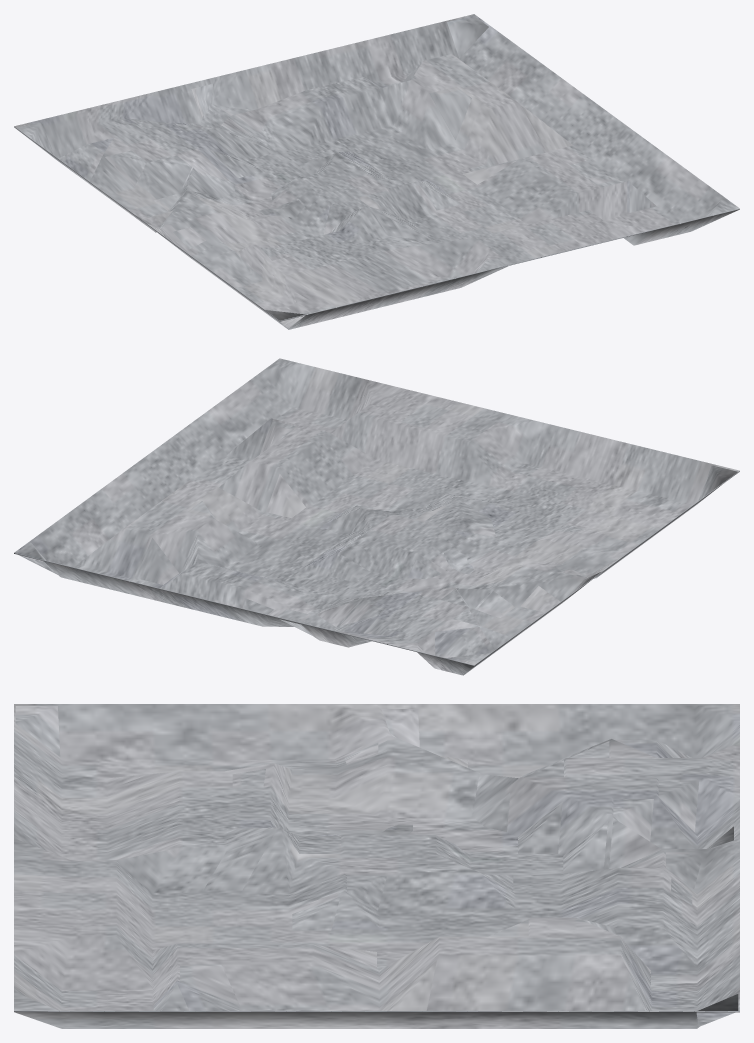
The model's file is snowland2.glb.
The picture shows the model from 3 angles, top to bottom: view 1: azimuth 30°, elevation 25°; view 2: azimuth 150°, elevation 25°; view 3: azimuth 270°, elevation 25°; orthographic projection. The views are drawn at different scales.
Visible parts, largest first — view 1: Cube; view 2: Cube; view 3: Cube.
Boxes of the visible parts, bbox=[...] form: Cube: bbox=[14, 14, 739, 329]; Cube: bbox=[14, 358, 739, 675]; Cube: bbox=[14, 704, 739, 1028].
Size of the model in its own units: 183 by 17.49 by 183.
1 material, 1 textured.
